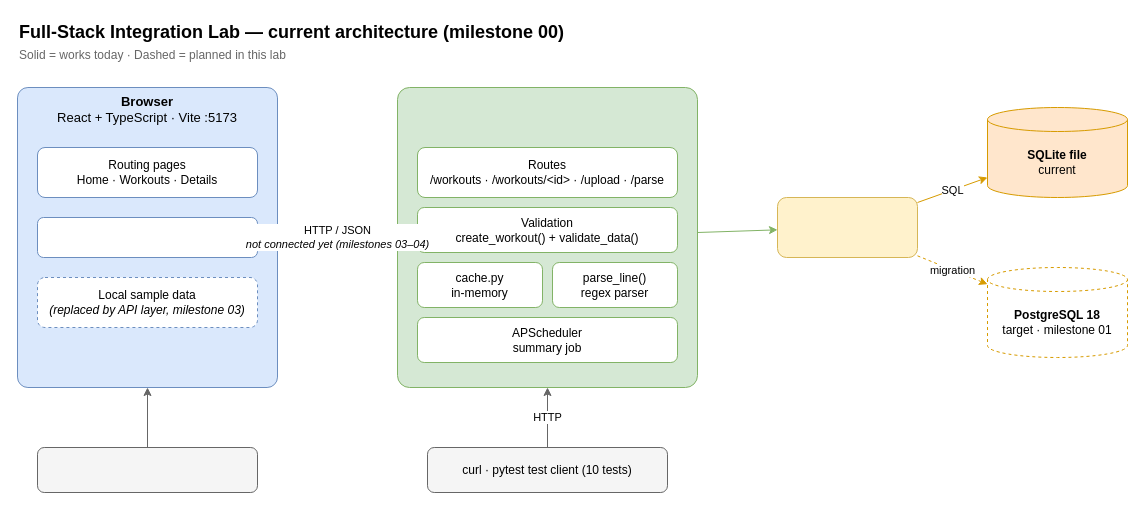
Some shapes in this 1145 by 510 pixel diagram are drawn without their labels. The box of each missing label's shape, as (x1, y1, x2, y2) in pixels:
db.py persistence layer: (776, 196, 918, 258)
Flask API Python · :5000: (396, 86, 698, 388)
Vitest (1) + Playwright (2): (36, 446, 258, 492)
WorkoutCard: (36, 216, 258, 258)
